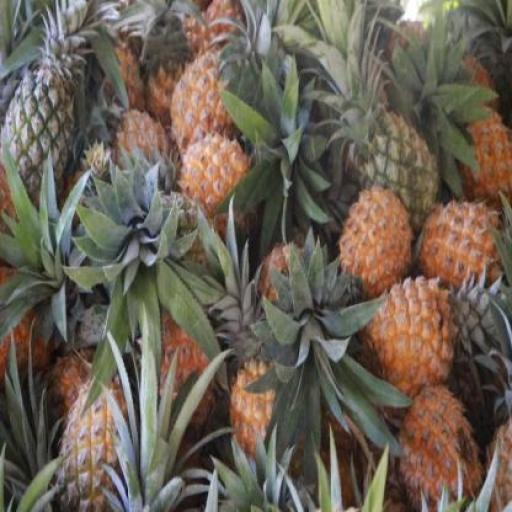------------------------------: (58, 384, 129, 511)
Pineapple - v8 v1: (395, 385, 485, 512), (365, 276, 451, 398), (338, 185, 415, 300), (422, 199, 505, 296), (169, 60, 241, 162), (176, 139, 249, 227)
